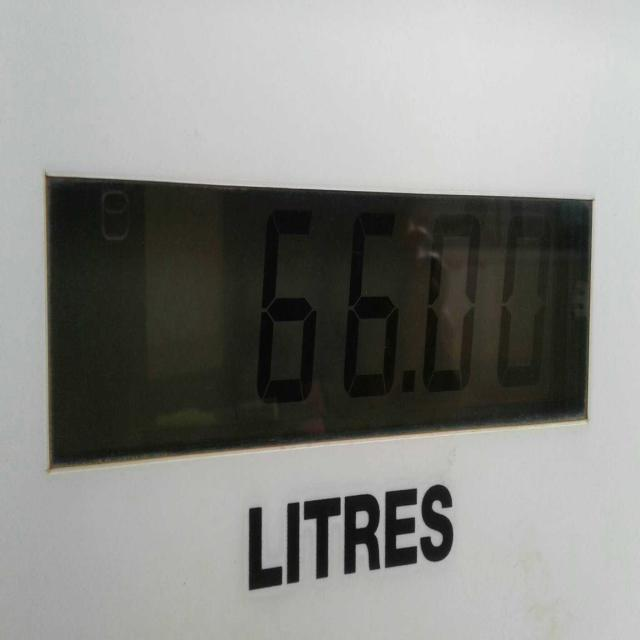.: (398, 354, 418, 412)
0: (420, 195, 484, 414), (494, 199, 556, 406)
6: (240, 189, 328, 411), (343, 204, 408, 408)
